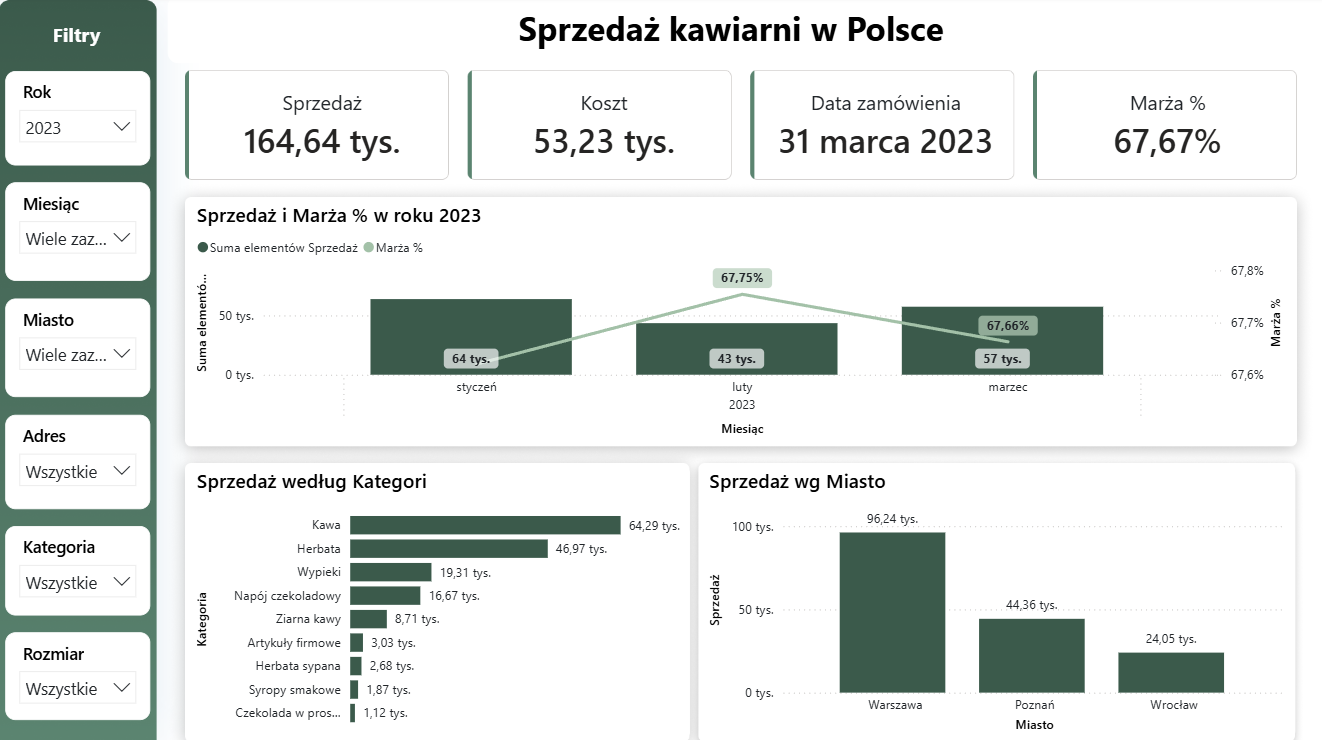

This screenshot's page, from the dashboard's own definition file:
{"tool":"powerbi","page":{"name":"Strona 1","canvas":[1280,720],"ordinal":0},"visuals":[{"type":"cardVisual","fields":{"Data":["Sum(Sprzedaz.Sprzedaż)","Sum(Sprzedaz.Koszt)","Max(Sprzedaz.Data zamówienia)","Sprzedaz.Marża %"]},"box":[163,64.9,1116.7,118.3],"z":0},{"type":"lineClusteredColumnComboChart","title":"Sprzedaż i Marża % w roku 2023","fields":{"Y":["Sum(Sprzedaz.Sprzedaż)"],"Y2":["Sprzedaz.Marża %"],"Category":["Kalendarz.Date.Odmiana.Hierarchia dat.Rok","Kalendarz.Date.Odmiana.Hierarchia dat.Miesiąc"]},"box":[181.8,194.8,1069.1,239.5],"z":1000},{"type":"barChart","title":"Sprzedaż według Kategori","fields":{"Category":["Tabela produktowa (Produkty).Kategoria"],"Y":["Sum(Sprzedaz.Sprzedaż)"]},"box":[181.8,451.6,484.8,268.4],"z":2000},{"type":"clusteredColumnChart","fields":{"Category":["Sklepy.Miasto"],"Y":["Sum(Sprzedaz.Sprzedaż)"]},"box":[676.7,451.6,574.2,268.4],"z":3000},{"type":"textbox","box":[163,0,1087.8,64.9],"z":4000},{"type":"slicer","fields":{"Values":["Kalendarz.Rok"]},"box":[5.8,72.1,139.9,90.9],"z":5000},{"type":"slicer","fields":{"Values":["Kalendarz.Miesiąc"]},"box":[5.8,179.8,139.9,95.2],"z":6000},{"type":"slicer","fields":{"Values":["Sklepy.Miasto"]},"box":[5.8,291.7,139.9,95.2],"z":7000},{"type":"slicer","fields":{"Values":["Sklepy.Adres"]},"box":[5.8,403.7,139.9,90.9],"z":8000},{"type":"slicer","fields":{"Values":["Tabela produktowa (Produkty).Kategoria"]},"box":[5.8,511.3,139.9,86.6],"z":9000},{"type":"slicer","fields":{"Values":["Tabela produktowa (Produkty).Rozmiar"]},"box":[5.8,614.6,139.9,85.1],"z":10000},{"type":"textbox","box":[26,18.8,96.7,46.2],"z":11000}]}

Visuals, with their boxes in screenshot pixels (x1, y1, x2, y2), scaled from the page's 1280x720 canvas onto the 1322x740 screenshot:
cardVisual - Sum(Sprzedaz.Sprzedaż) x Sum(Sprzedaz.Koszt): l=168, t=67, r=1321, b=188
"Sprzedaż i Marża % w roku 2023" lineClusteredColumnComboChart: l=188, t=200, r=1292, b=446
"Sprzedaż według Kategori" barChart: l=188, t=464, r=688, b=739
clusteredColumnChart - Sklepy.Miasto x Sum(Sprzedaz.Sprzedaż): l=699, t=464, r=1292, b=739
textbox: l=168, t=0, r=1292, b=67
slicer - Kalendarz.Rok: l=6, t=74, r=150, b=168
slicer - Kalendarz.Miesiąc: l=6, t=185, r=150, b=283
slicer - Sklepy.Miasto: l=6, t=300, r=150, b=398
slicer - Sklepy.Adres: l=6, t=415, r=150, b=508
slicer - Tabela produktowa (Produkty).Kategoria: l=6, t=526, r=150, b=615
slicer - Tabela produktowa (Produkty).Rozmiar: l=6, t=632, r=150, b=719
textbox: l=27, t=19, r=127, b=67
